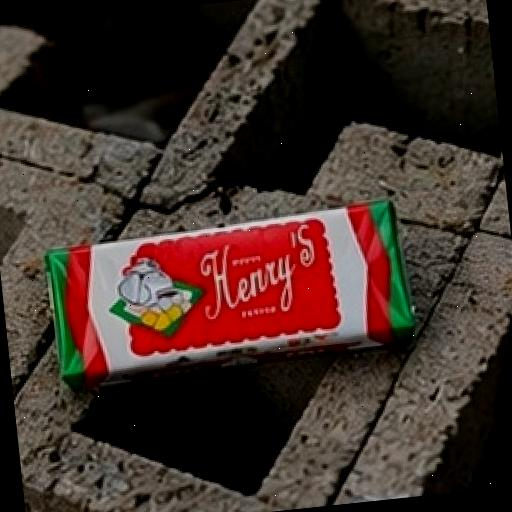henry-s: (0, 166, 456, 427)
